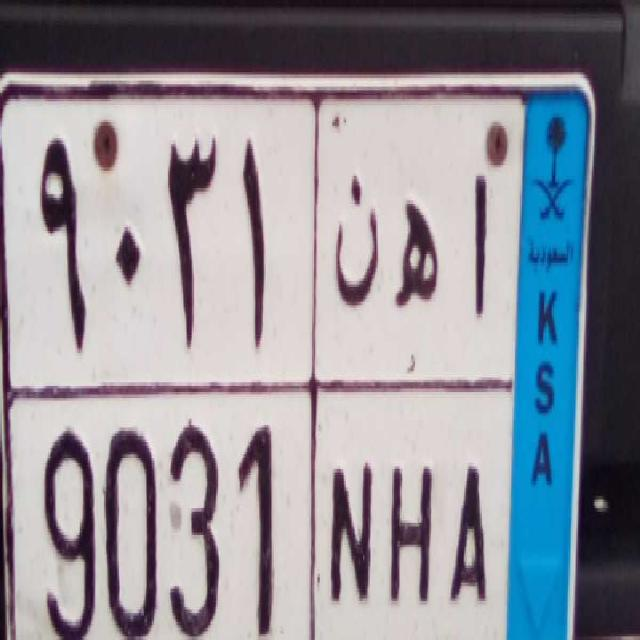license_plate: (1, 387, 512, 640)
